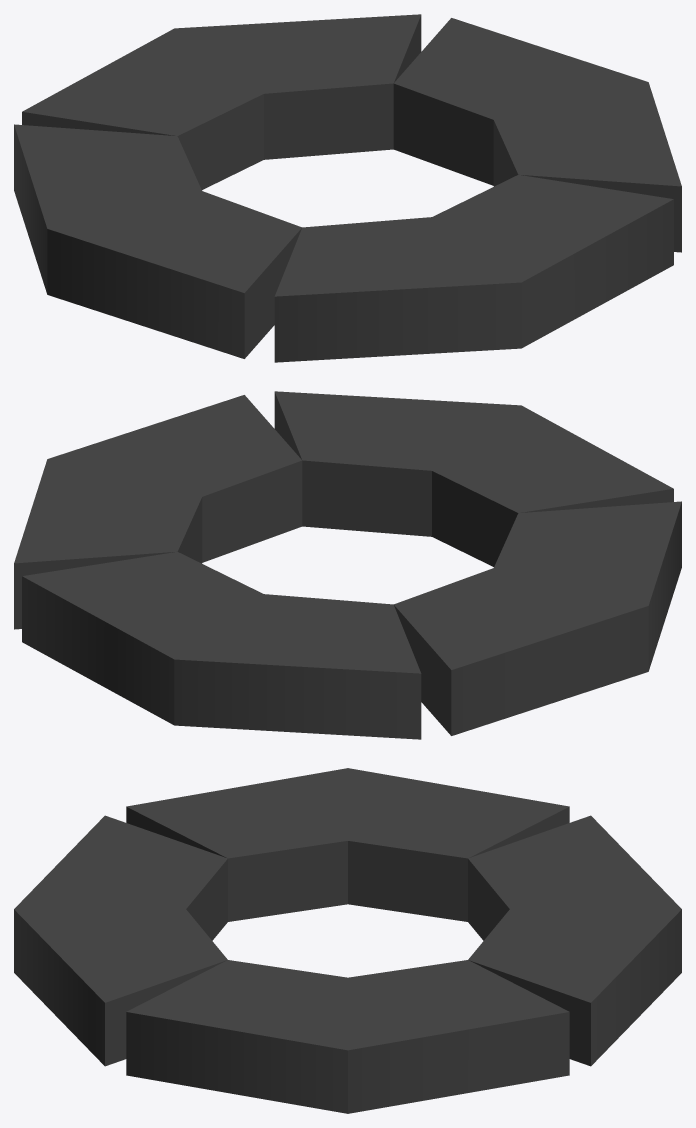
File: Stack4.fbx
The picture shows the model from 3 angles, top to bottom: view 1: azimuth 30°, elevation 25°; view 2: azimuth 150°, elevation 25°; view 3: azimuth 270°, elevation 25°; orthographic projection. The views are drawn at different scales.
Parts seen in each view (by area): view 1: Plane.039, Plane.041, Plane.043, Plane.044; view 2: Plane.043, Plane.041, Plane.039, Plane.044; view 3: Plane.044, Plane.041, Plane.043, Plane.039.
Boxes of the visible parts, x1,y1,x2,y2 form: Plane.039: (274,175,673,362); Plane.041: (14,124,302,358); Plane.043: (22,14,421,189); Plane.044: (393,18,681,252); Plane.043: (22,552,421,739); Plane.041: (393,501,681,735); Plane.039: (274,391,673,566); Plane.044: (14,395,302,629); Plane.044: (126,960,569,1113); Plane.041: (126,768,569,921); Plane.043: (468,815,681,1066); Plane.039: (14,815,227,1066).
Size of the model in its own units: 215 by 22.6 by 215.
